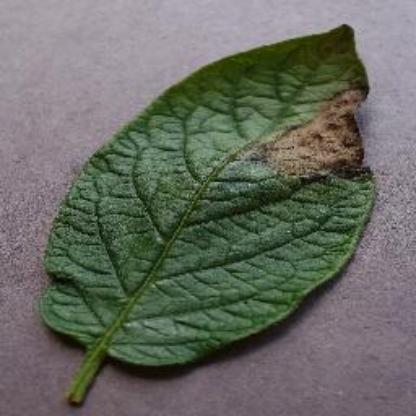Late-Blight: (42, 24, 374, 362)
